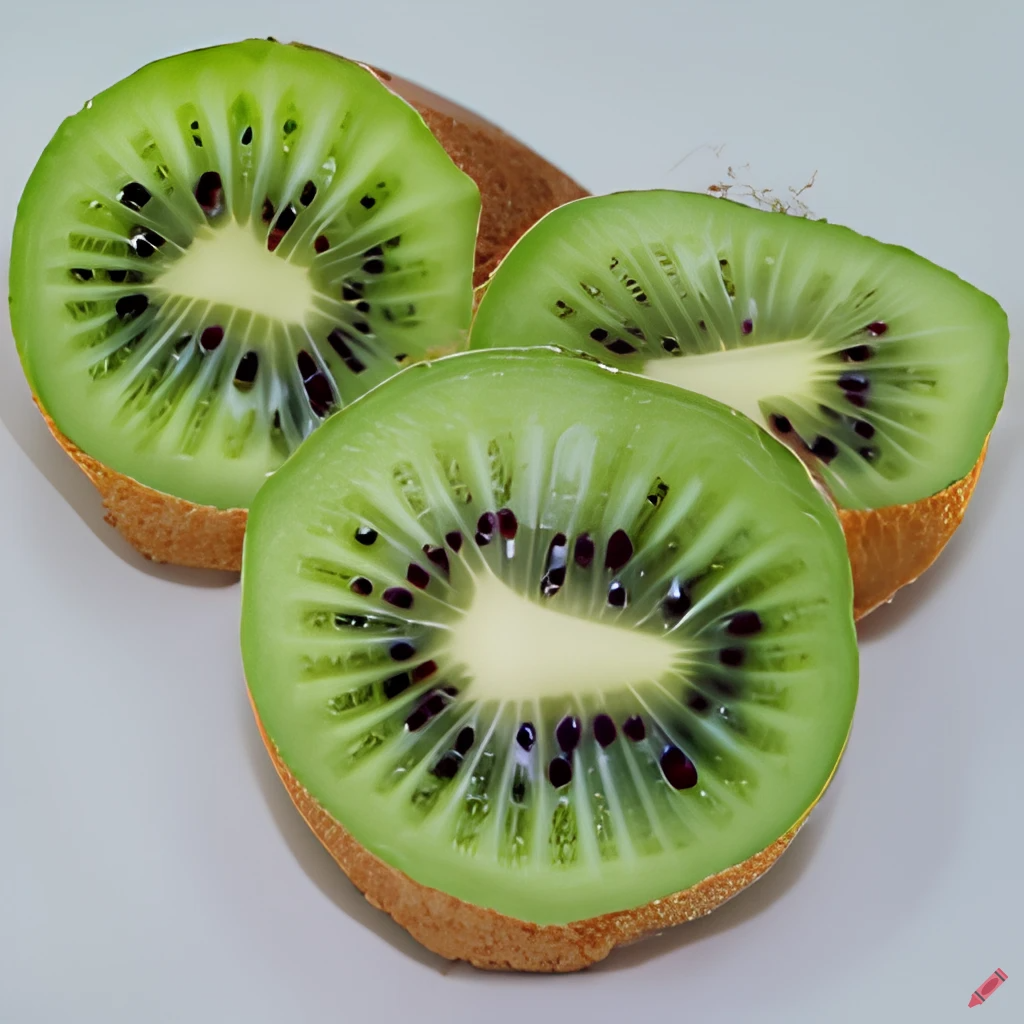Kiwi: (217, 341, 854, 998)
